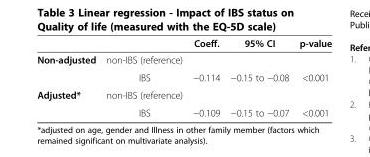table: (36, 37, 331, 118)
table column: (100, 37, 187, 118), (224, 37, 293, 118), (36, 37, 100, 118), (293, 37, 331, 118), (187, 37, 224, 118)
table column header: (36, 37, 331, 51)
table row: (36, 85, 331, 103), (36, 51, 331, 68), (36, 68, 331, 85), (36, 103, 331, 118), (36, 37, 331, 51)
table spanning cell: (36, 51, 100, 85), (36, 85, 100, 118)
